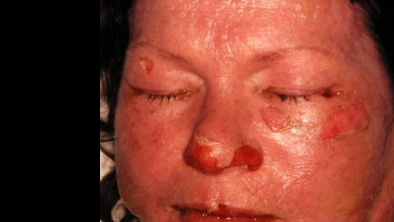SJS-TEN: (179, 126, 271, 184), (305, 96, 379, 153), (247, 98, 308, 144), (164, 202, 289, 222), (135, 47, 164, 80)
